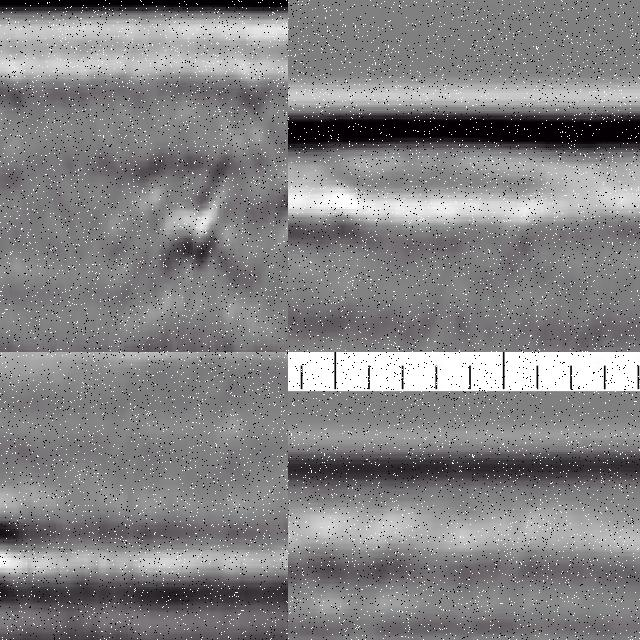loose: (136, 140, 289, 286)
